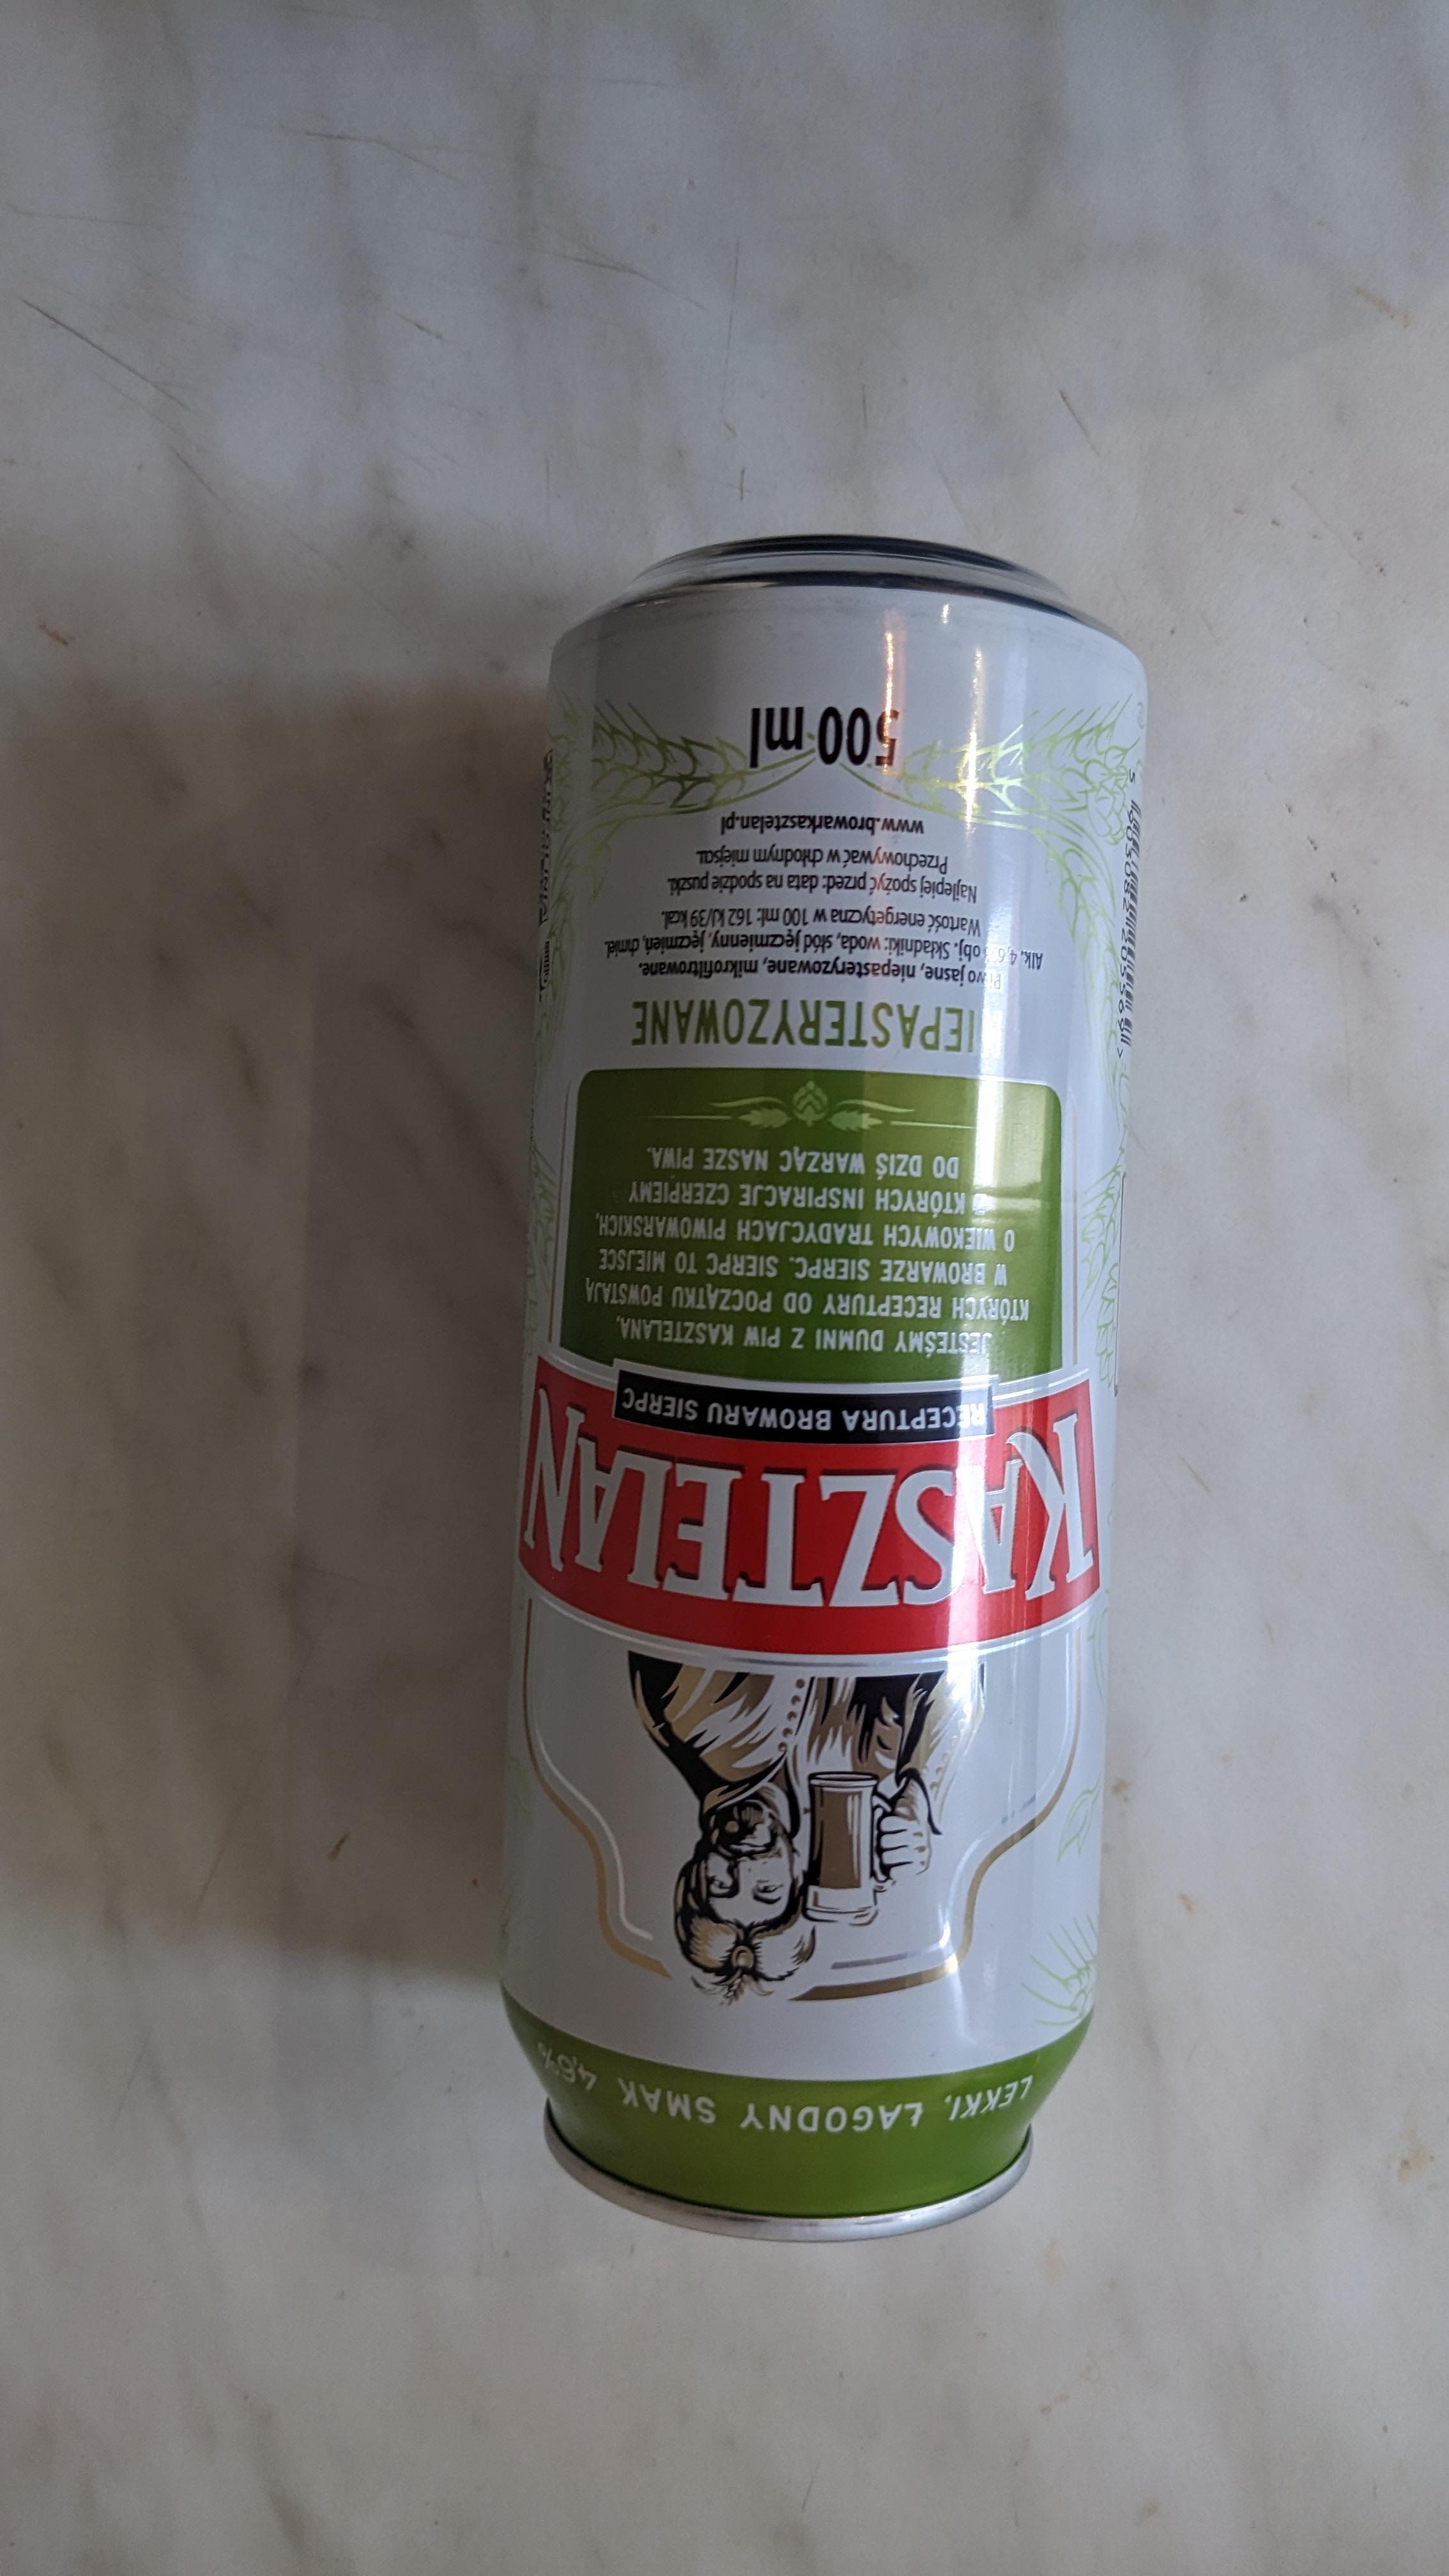kasztelan: (518, 520, 1136, 2268)
